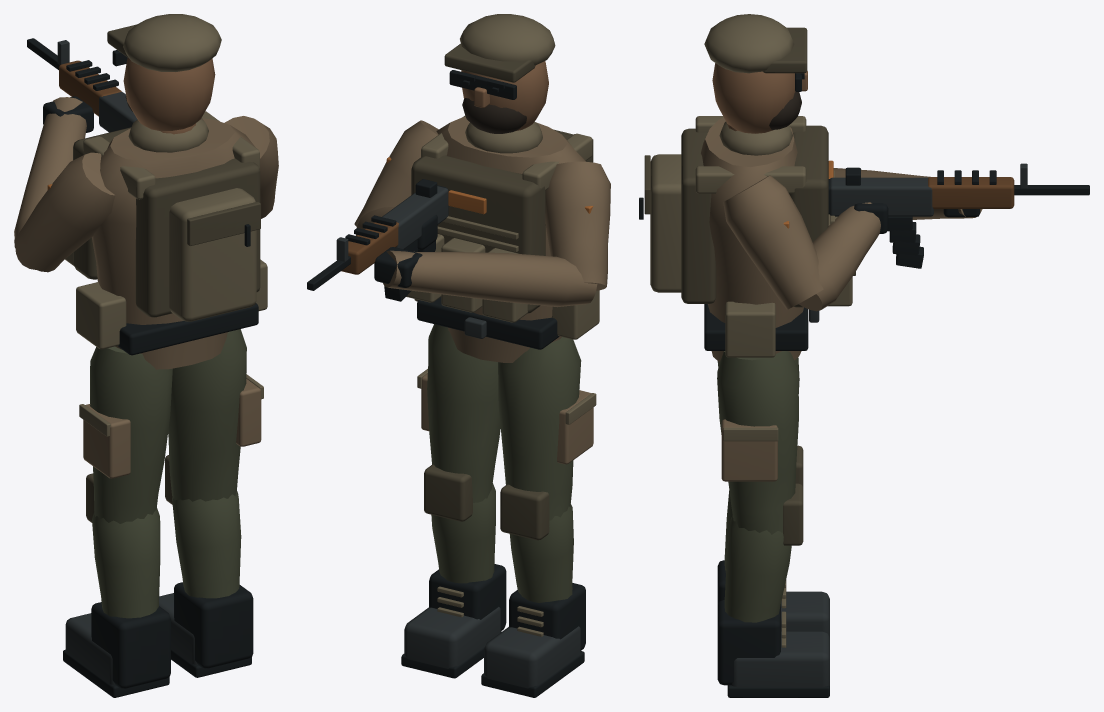
Rendered from t_operator.glb.
3 renders of one model, left to right at view 1: azimuth 30°, elevation 25°; view 2: azimuth 150°, elevation 25°; view 3: azimuth 270°, elevation 25°, orthographic. The views are drawn at different scales.
Visible parts, largest first — view 1: jacket_and_equipment, leg_l_shin, leg_r_shin, leg_l_thigh, leg_r_thigh, head_equipment, rifle; view 2: jacket_and_equipment, leg_l_shin, leg_r_shin, leg_l_thigh, head_equipment, leg_r_thigh, rifle; view 3: jacket_and_equipment, leg_r_shin, leg_r_thigh, head_equipment, rifle, leg_l_shin.
Part boxes in pixels (box(x1,y1,x2,y2)): jacket_and_equipment: box(14, 96, 278, 369); leg_l_shin: box(63, 473, 170, 697); leg_r_shin: box(159, 455, 253, 677); leg_l_thigh: box(79, 346, 172, 523); leg_r_thigh: box(168, 329, 263, 501); head_equipment: box(107, 14, 221, 134); rifle: box(27, 38, 137, 132); jacket_and_equipment: box(354, 115, 610, 362); leg_l_shin: box(481, 484, 585, 697); leg_r_shin: box(401, 464, 506, 678); leg_l_thigh: box(498, 337, 596, 520); head_equipment: box(444, 14, 555, 133); leg_r_thigh: box(417, 324, 500, 502); rifle: box(307, 179, 448, 301); jacket_and_equipment: box(639, 116, 982, 361); leg_r_shin: box(717, 483, 829, 697); leg_r_thigh: box(717, 351, 798, 534); head_equipment: box(704, 14, 807, 133); rifle: box(828, 163, 1089, 268); leg_l_shin: box(717, 445, 829, 637).
Size of the model in its own units: 0.7453 by 1.83 by 1.16.
